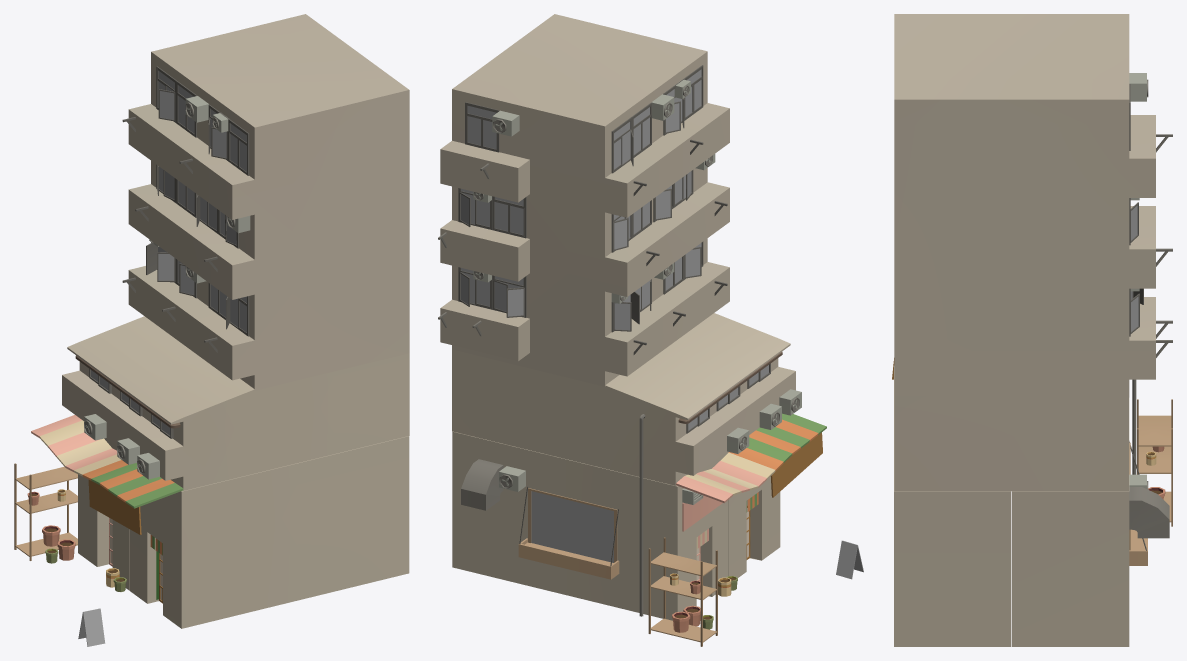
Rendered from Flowershop_Bookstore.fbx.
3 views of the same model, side by side, from view 1: azimuth 30°, elevation 25°; view 2: azimuth 150°, elevation 25°; view 3: azimuth 270°, elevation 25° (orthographic). The views are drawn at different scales.
Visible parts, largest first — view 1: polySurface630, polySurface1761, polySurface577, pCube213, polySurface1760, polySurface550, pCube168, pCube179, polySurface438; view 2: polySurface630, polySurface577, polySurface1760, pCube213, polySurface1762, polySurface1761, pCube254, polySurface645, polySurface550, polySurface683, pCube168, pCube179 (+4 smaller); view 3: polySurface630, polySurface577, polySurface1761, polySurface1760, polySurface645, pCube168, polySurface438, pCube254, vent5_polySurface1314, polySurface683.
Part boxes in pixels (x1,y1,x2,y2): polySurface630: [128, 14, 409, 390]; polySurface1761: [130, 436, 409, 628]; polySurface577: [62, 316, 409, 490]; pCube213: [31, 415, 183, 508]; polySurface1760: [78, 438, 129, 590]; polySurface550: [88, 480, 141, 534]; pCube168: [15, 466, 77, 489]; pCube179: [78, 608, 105, 646]; polySurface438: [15, 489, 77, 513]; polySurface630: [440, 14, 729, 386]; polySurface577: [452, 313, 795, 485]; polySurface1760: [452, 431, 728, 620]; pCube213: [676, 413, 826, 503]; polySurface1762: [528, 488, 617, 562]; polySurface1761: [728, 477, 780, 577]; pCube254: [518, 538, 619, 579]; polySurface645: [461, 459, 503, 510]; polySurface550: [770, 432, 822, 497]; polySurface683: [639, 414, 645, 616]; pCube168: [651, 552, 716, 576]; pCube179: [836, 540, 863, 579]; polySurface630: [894, 14, 1155, 397]; polySurface577: [894, 396, 1128, 491]; polySurface1761: [894, 366, 1011, 646]; polySurface1760: [1012, 398, 1129, 646]; polySurface645: [1129, 487, 1169, 538]; pCube168: [1138, 415, 1171, 446]; polySurface438: [1138, 446, 1171, 473]; pCube254: [1129, 529, 1147, 565]; vent5_polySurface1314: [1129, 73, 1148, 101]; polySurface683: [1132, 379, 1136, 474].
Bounding box in the file's own units: 99.37 × 145 × 67.29.
Materials: 4 (1 with a texture image).
